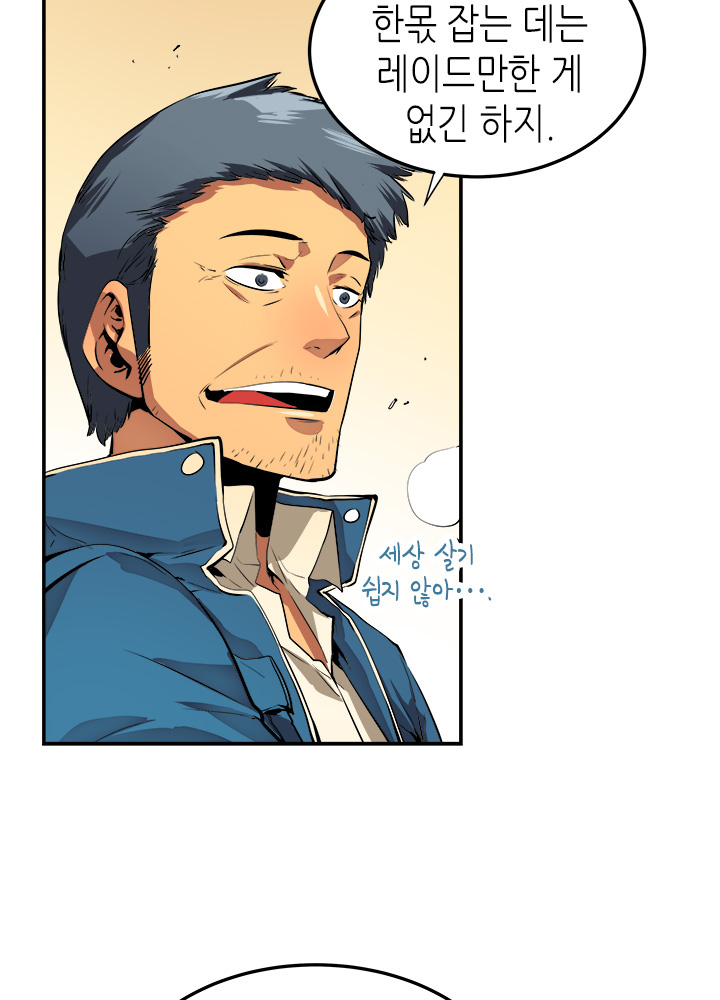dialog box: (275, 1, 674, 224)
text: (354, 1, 605, 161), (354, 530, 511, 619)
